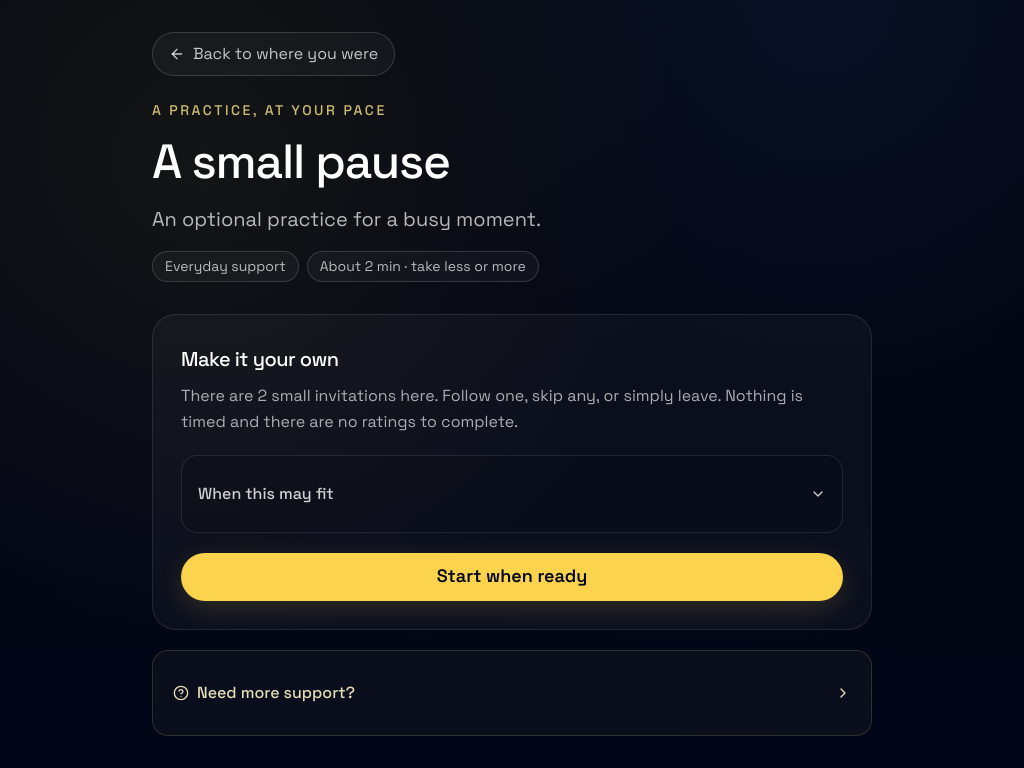
Test: ToolProtocolView › begins a self-paced practice without scores, rating questions, or timers
This screenshot has width=1024, height=768.
Expected: the text "nothing is timed and there are no ratings" is shown, [181,385,803,432]
Click the button "Start when ready".
click(512, 577)  # box [181,553,843,601]
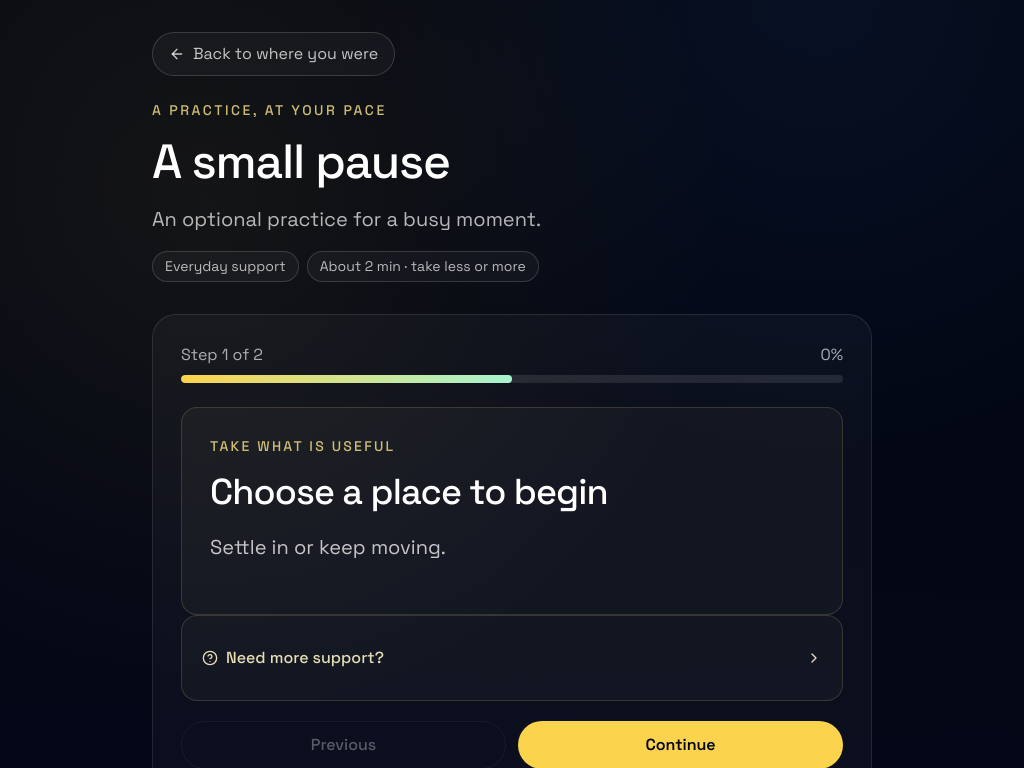
Expected: the heading "Choose a place to begin" is shown, [210,469,608,515]
